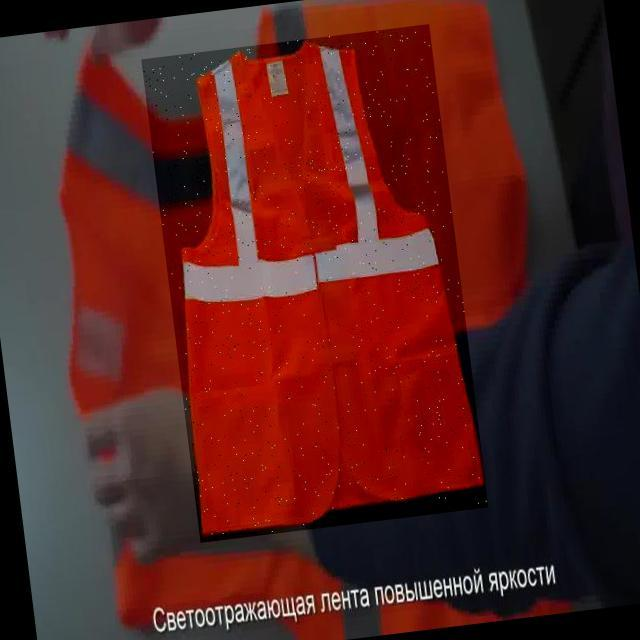Safety Vest: (141, 24, 488, 543)
